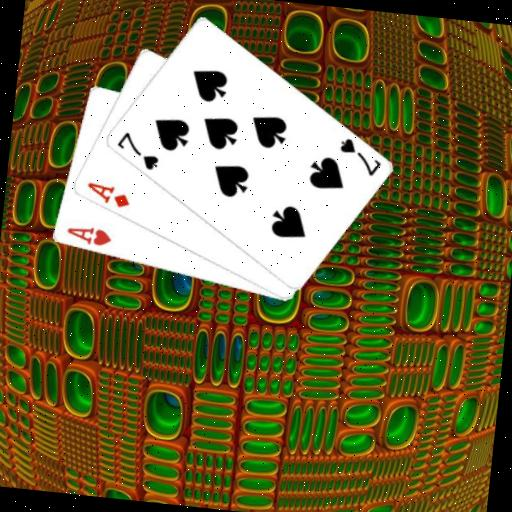7S: (111, 128, 162, 173), (334, 134, 385, 179)
AD: (82, 179, 133, 211)
AH: (62, 222, 114, 250)
